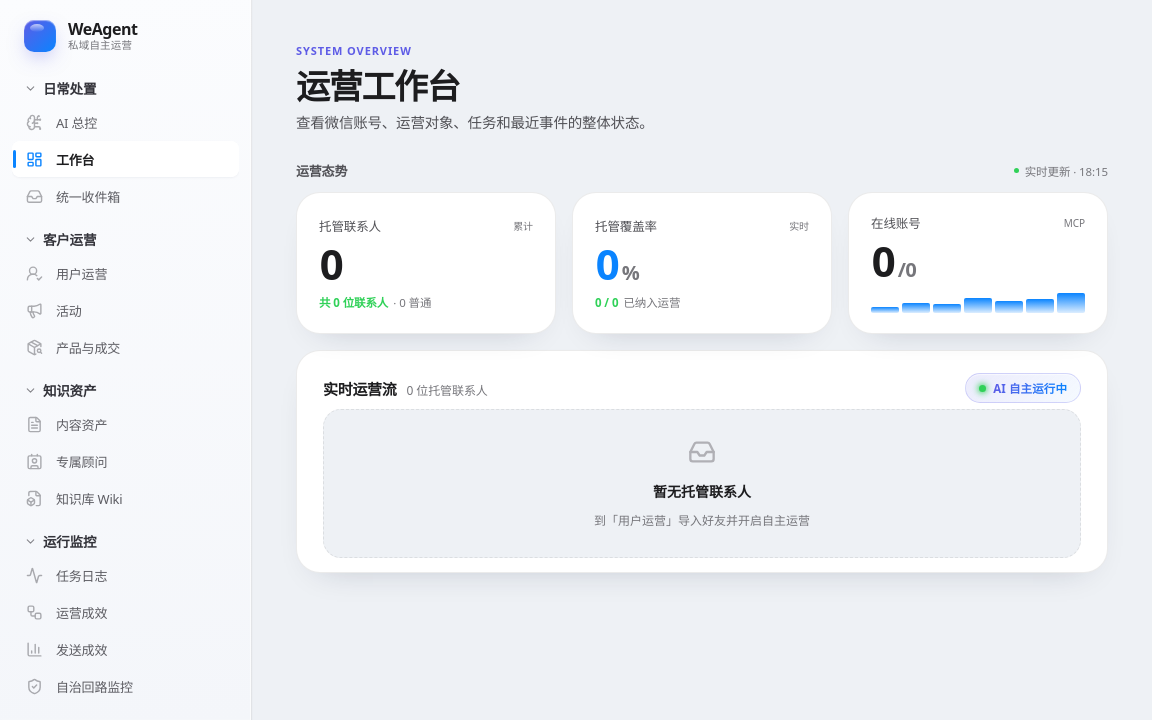
Shell 导航（单列 + 独立折叠） › 折叠是各组独立的，不互斥（收起一组不影响其它组）
# 收起「日常处置」（含工作台）
Click the button with test id "nav-group-日常处置".
click(126, 88)  # box [12,76,239,100]
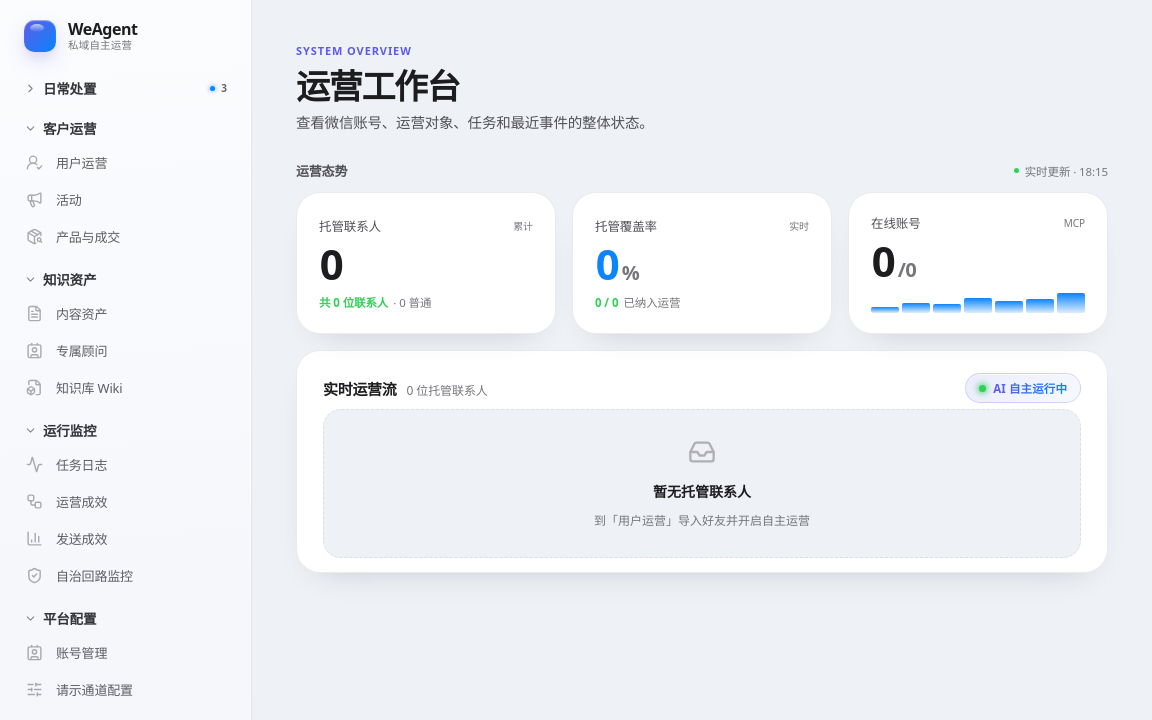
Expected: the text "用户运营" is shown, [56,154,107,172]
# 再收起「客户运营」，「平台配置」依旧不受影响。
Click the button with test id "nav-group-客户运营".
click(126, 128)  # box [12,116,239,140]
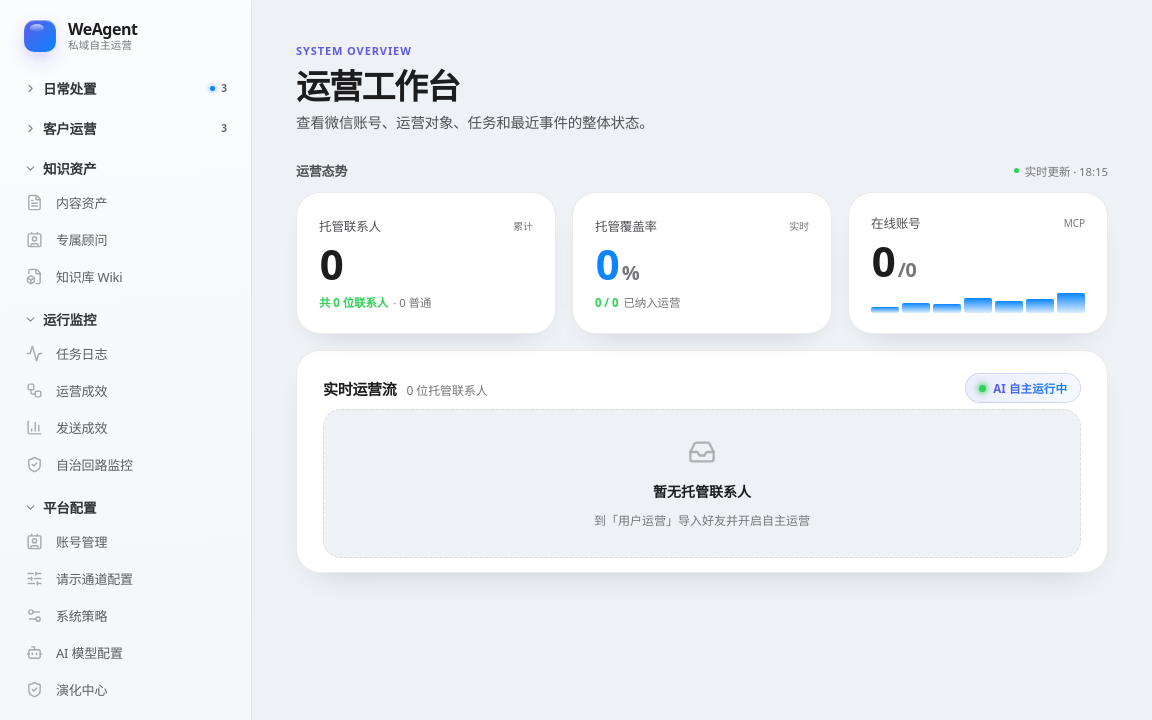
Expected: the text "系统策略" is shown, [56,606,107,624]
